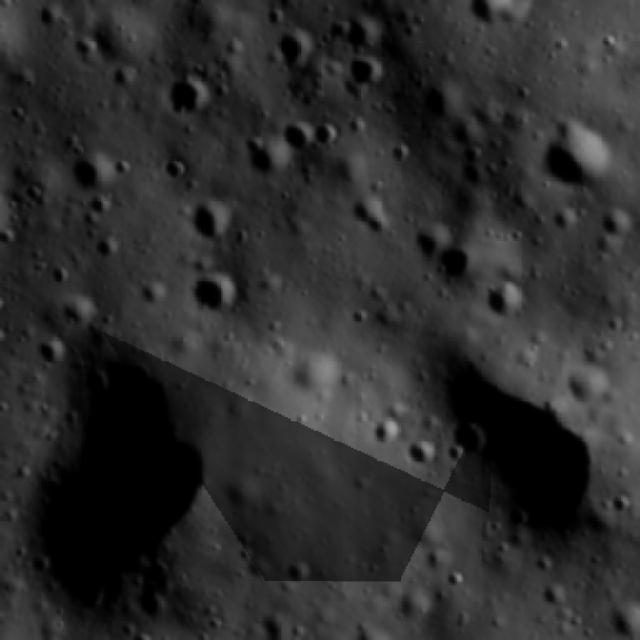crater: (28, 348, 228, 632), (430, 362, 605, 558), (533, 112, 627, 192), (186, 197, 252, 252), (185, 266, 248, 323), (245, 130, 303, 187), (159, 65, 215, 122), (344, 188, 402, 243), (428, 235, 481, 292), (64, 148, 122, 200), (440, 414, 505, 460), (334, 3, 389, 57), (457, 0, 528, 38), (269, 21, 316, 78), (562, 354, 610, 409), (338, 51, 391, 100), (278, 114, 328, 161), (420, 76, 466, 126), (52, 288, 103, 332), (400, 434, 445, 480), (487, 276, 527, 326), (226, 475, 272, 511), (446, 115, 491, 151), (28, 334, 70, 372), (526, 573, 568, 610), (370, 415, 408, 450), (158, 156, 198, 187), (285, 556, 318, 592), (33, 0, 65, 37), (383, 134, 419, 166), (244, 554, 278, 586), (450, 160, 487, 189), (93, 233, 124, 264), (137, 276, 169, 306), (112, 66, 143, 96), (606, 608, 637, 638), (44, 266, 78, 292), (269, 0, 305, 23), (260, 8, 294, 32), (68, 35, 98, 62), (349, 301, 376, 328), (23, 182, 49, 208), (444, 568, 468, 588), (547, 0, 591, 6), (0, 160, 2, 274), (0, 292, 9, 316)
